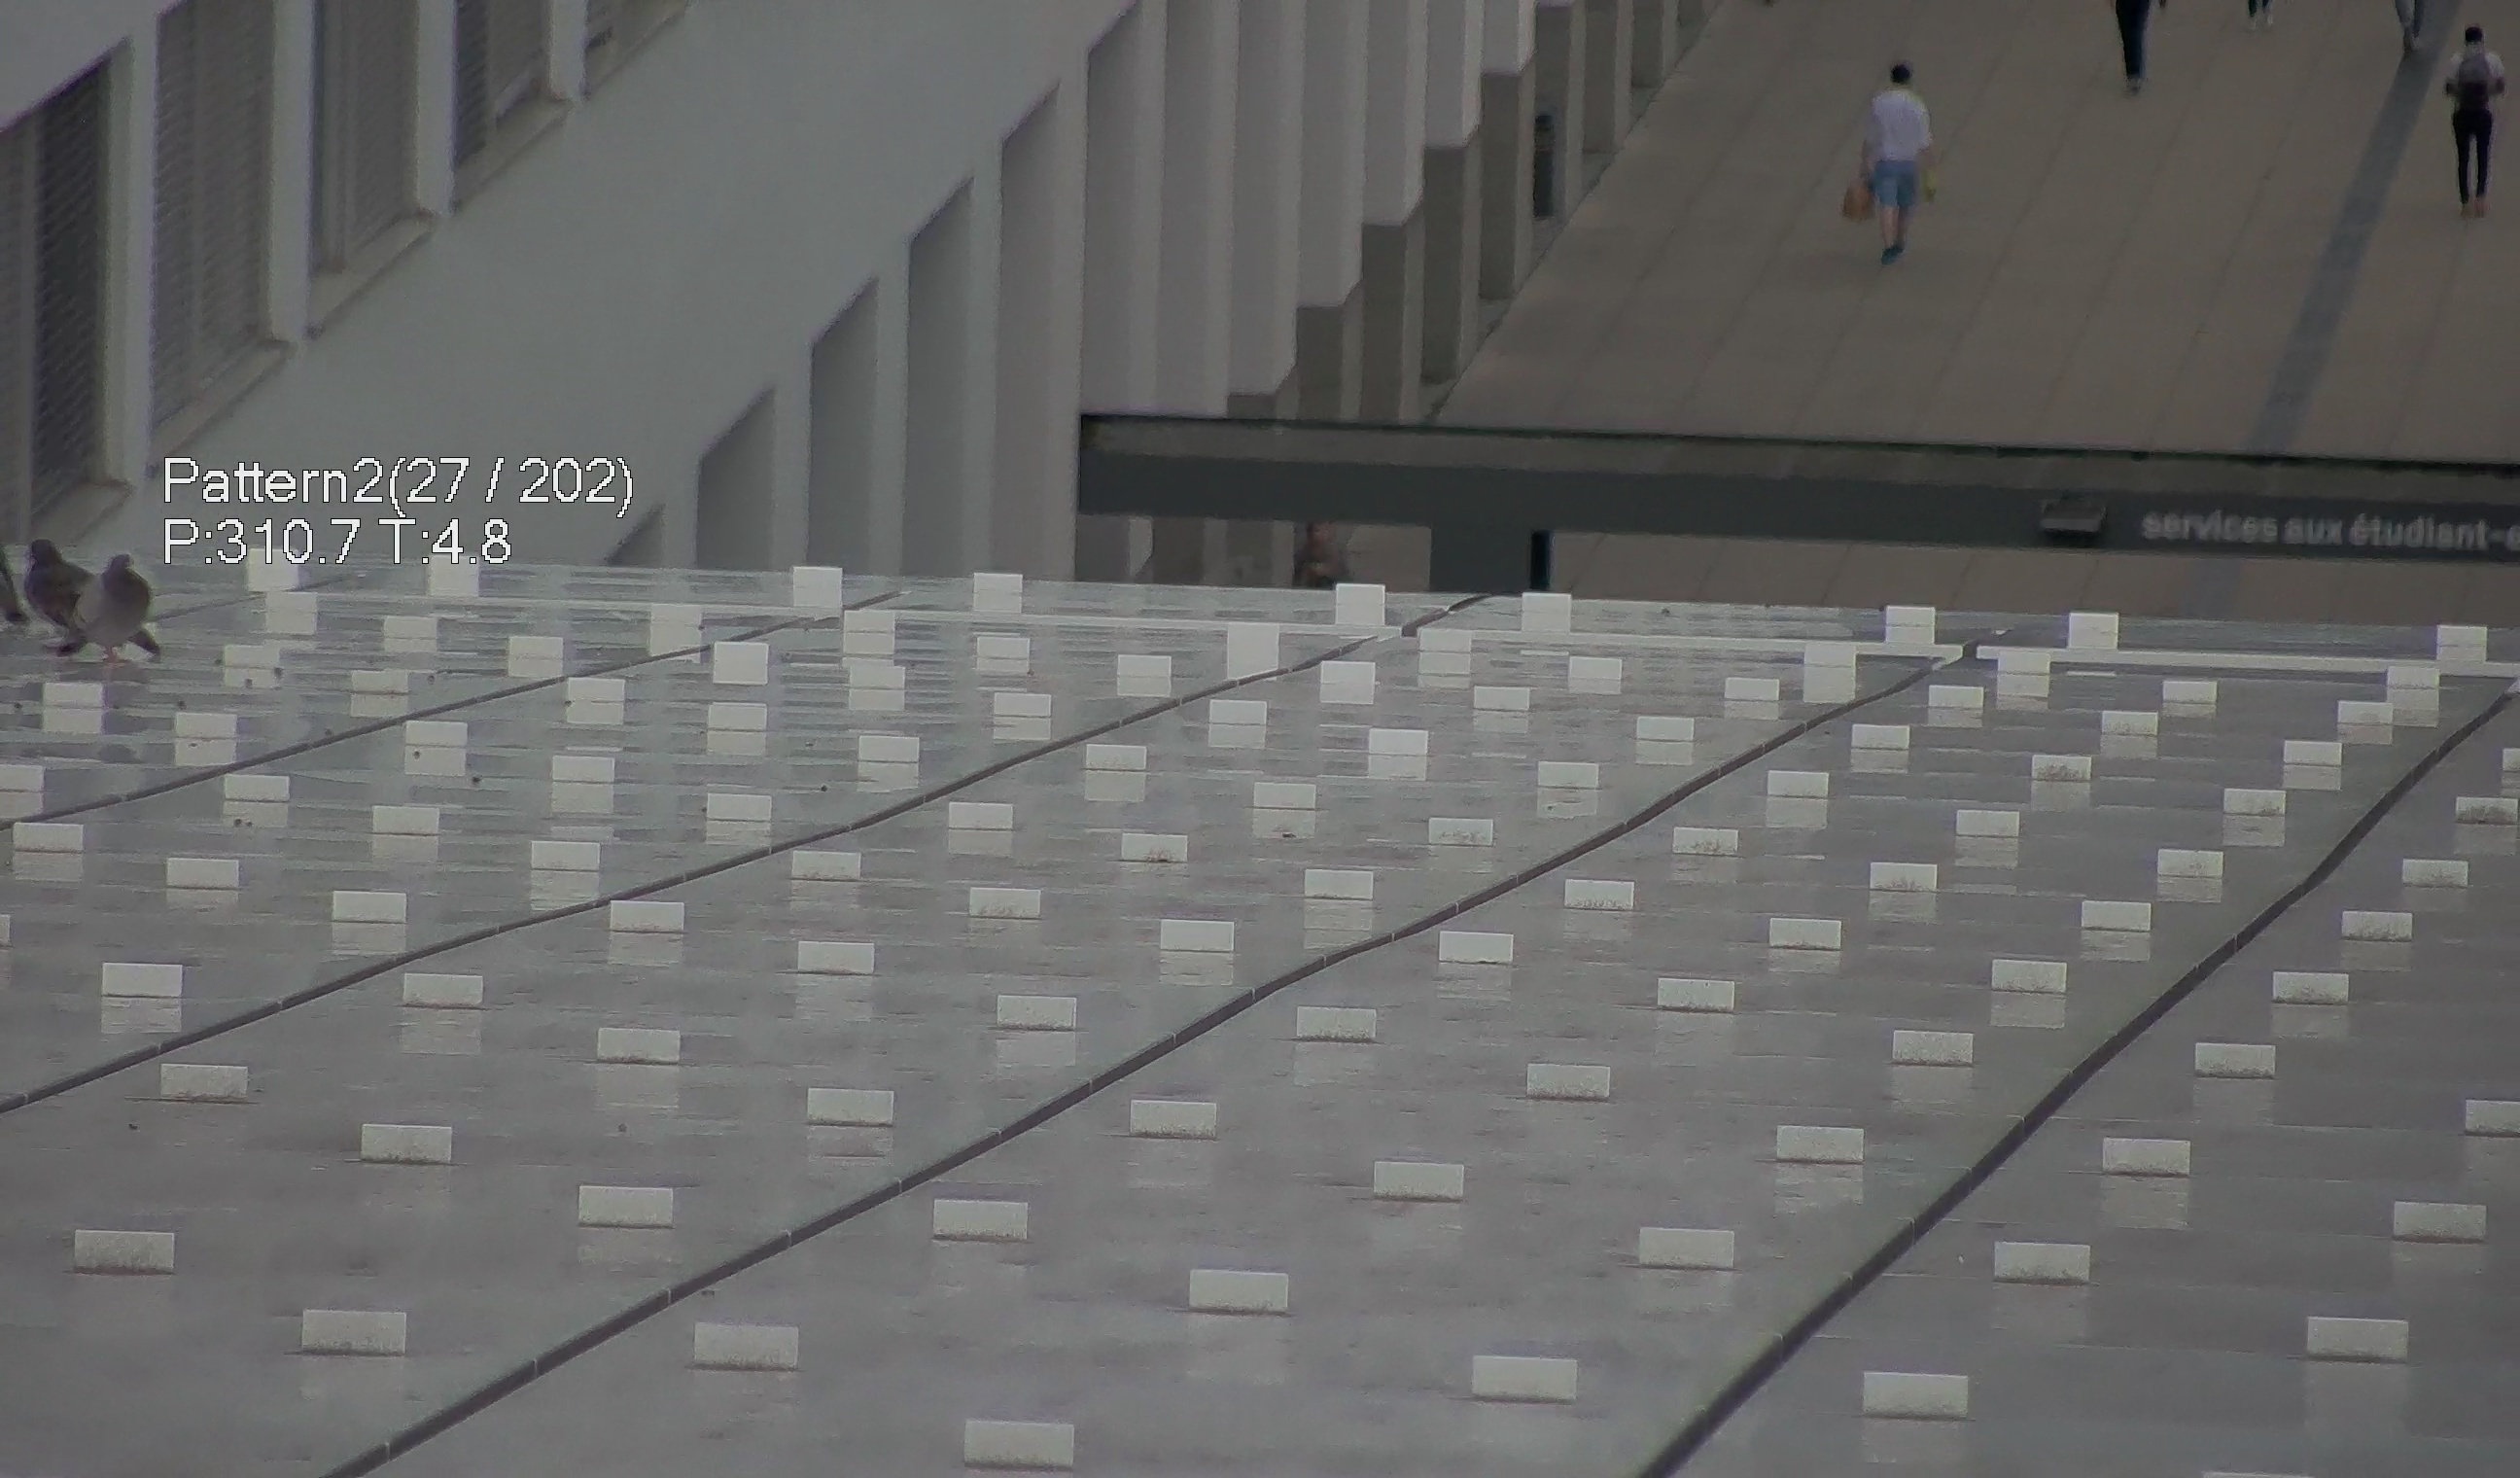Pigeon: (53, 533, 167, 672), (19, 535, 93, 639)
